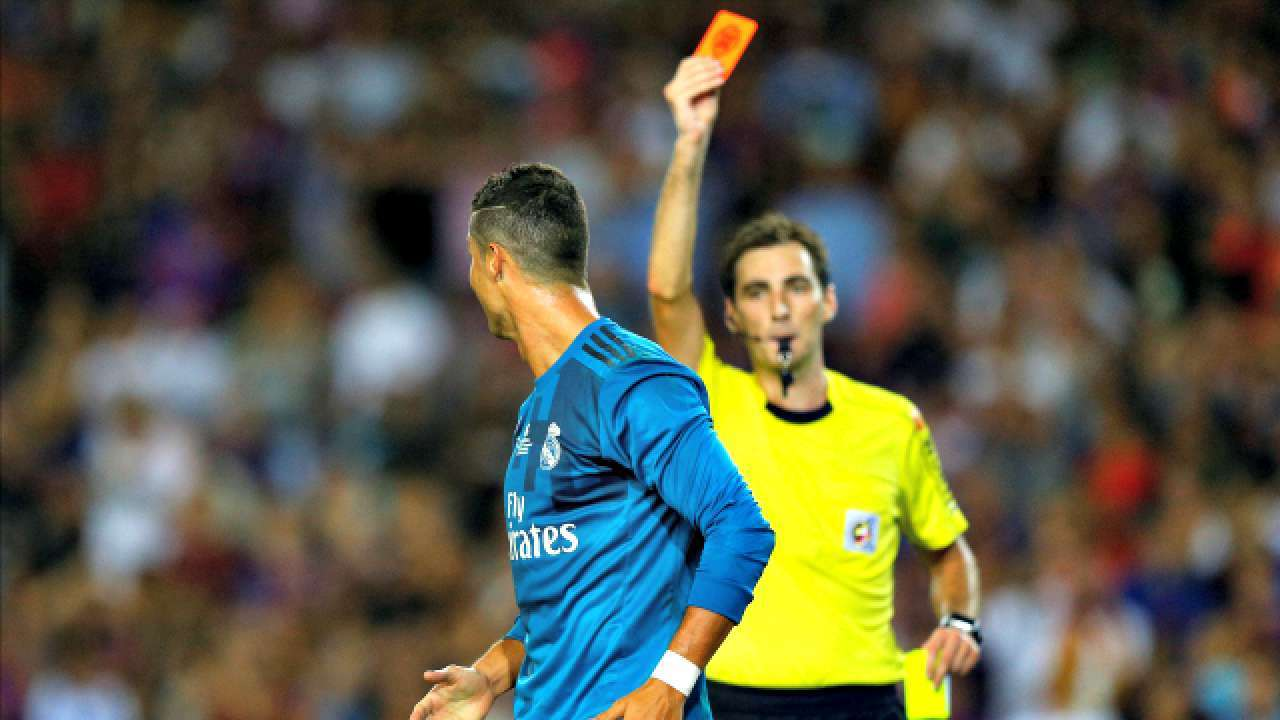red_card: (644, 12, 768, 125)
